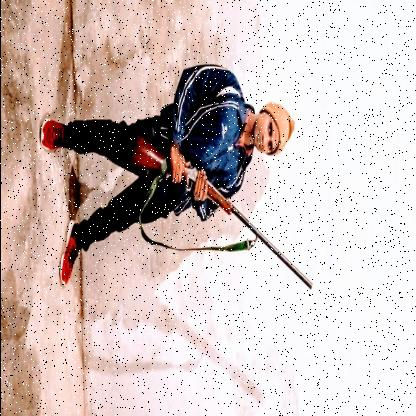rifle: (128, 132, 316, 298)
